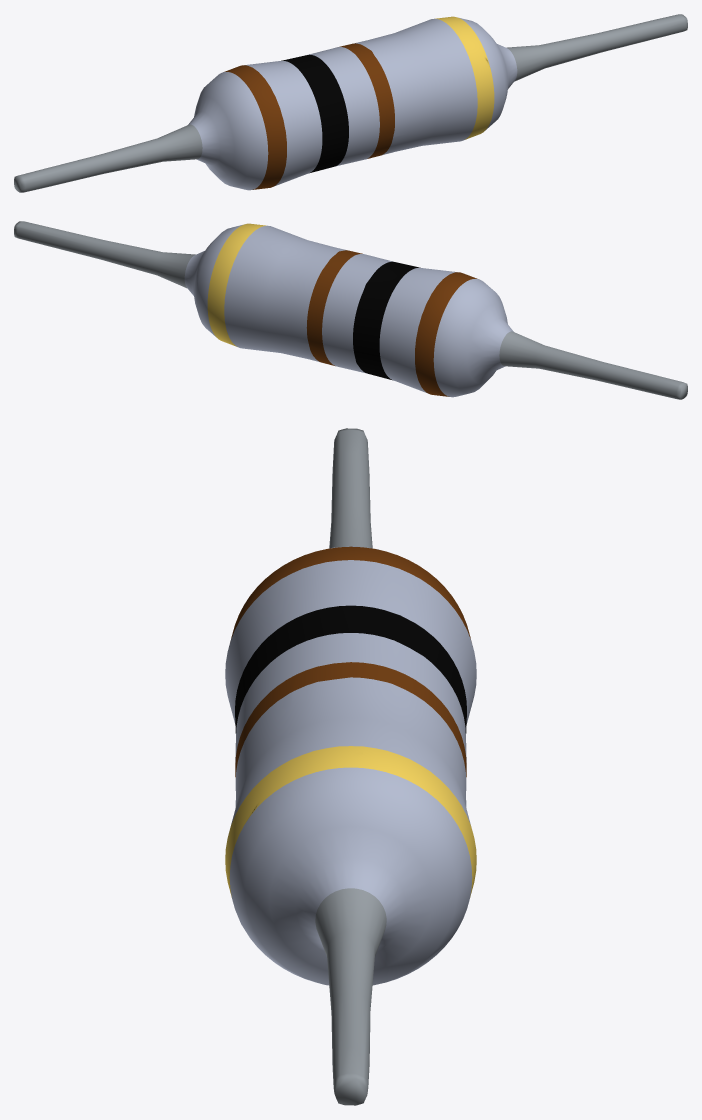
Rendered from ResistorLP.fbx.
3 renders of one model, top to bottom at view 1: azimuth 30°, elevation 25°; view 2: azimuth 150°, elevation 25°; view 3: azimuth 270°, elevation 25°, orthographic. The views are drawn at different scales.
Parts seen in each view (by area): view 1: Resister; view 2: Resister; view 3: Resister.
Boxes of the visible parts, x1=… form: Resister: x1=14, y1=14, x2=687, y2=192; Resister: x1=14, y1=221, x2=687, y2=399; Resister: x1=225, y1=428, x2=476, y2=1105.
Size of the model in its own units: 800 by 131 by 131.
Materials: 3 (2 with a texture image).
